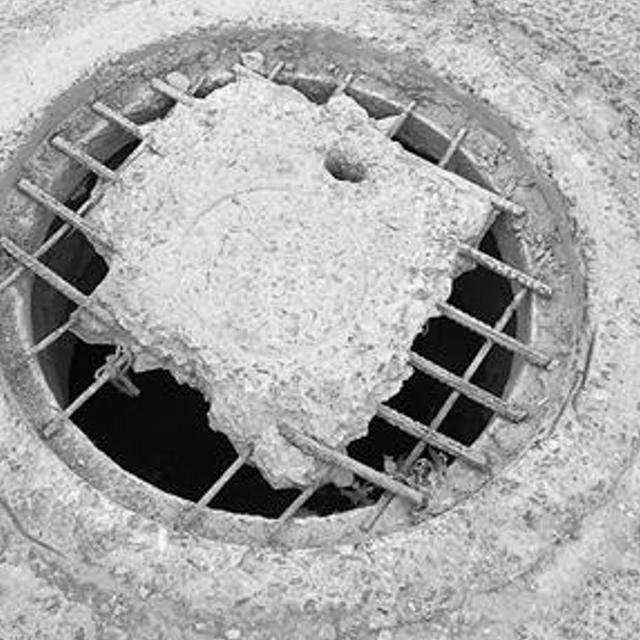broke: (0, 0, 627, 603)
